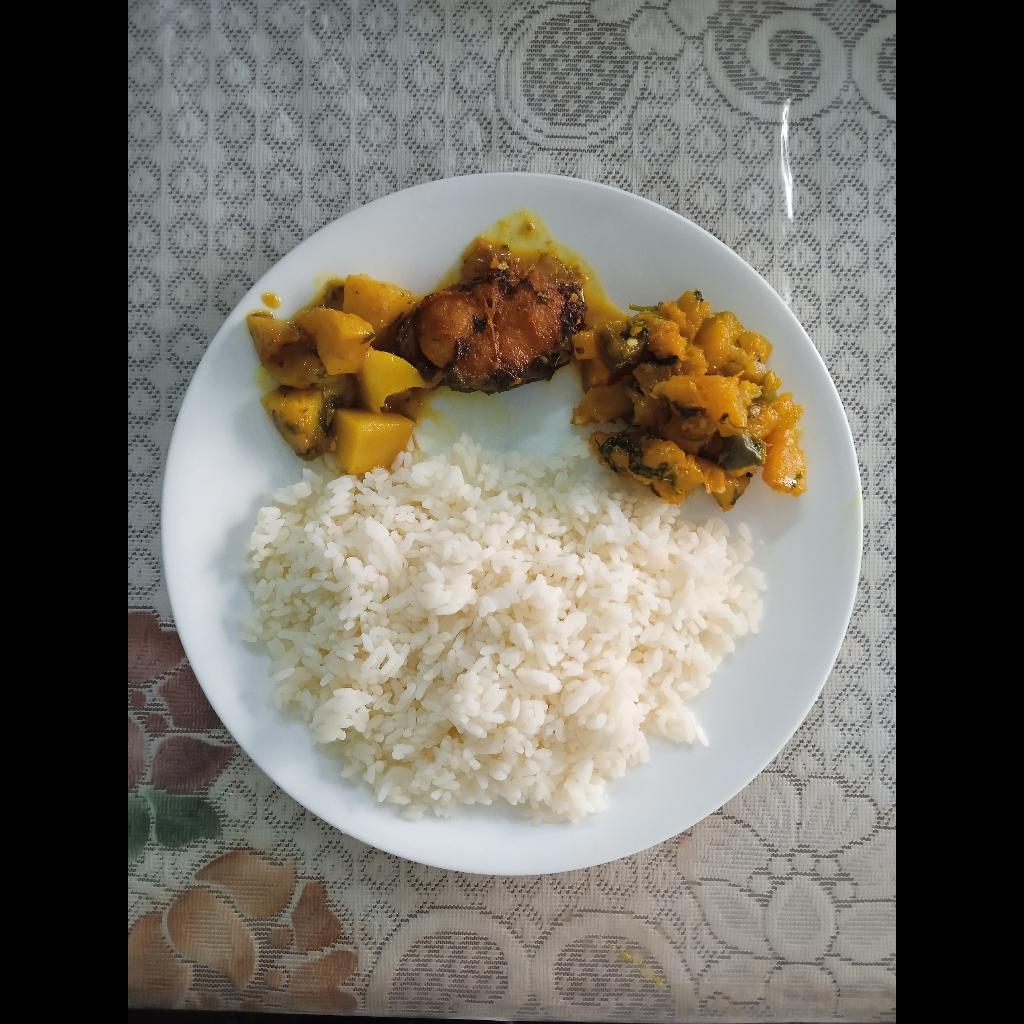fish: (397, 236, 588, 396)
kumra-vaji: (570, 292, 806, 512)
potato: (248, 274, 427, 474)
rice: (238, 432, 764, 832)
